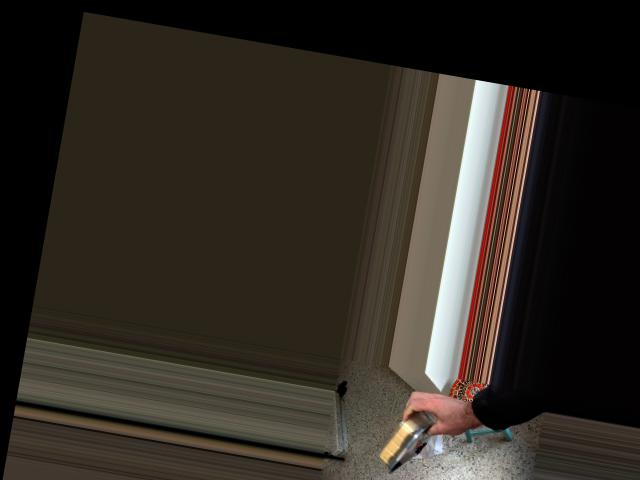cheese: (361, 371, 458, 480)
